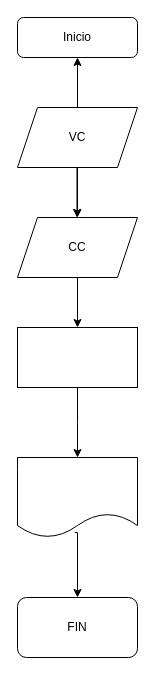
Image size: 155x675. Some labels were removed from this diagram. The shapes that lost their labels are listed below. From the top down, each one's box as (x1, y1, x2, y2) in pixels, then its label:
(16, 326, 138, 388): VCU= VC/CC
(16, 456, 138, 538): VALOR CUOTA (VCU)
